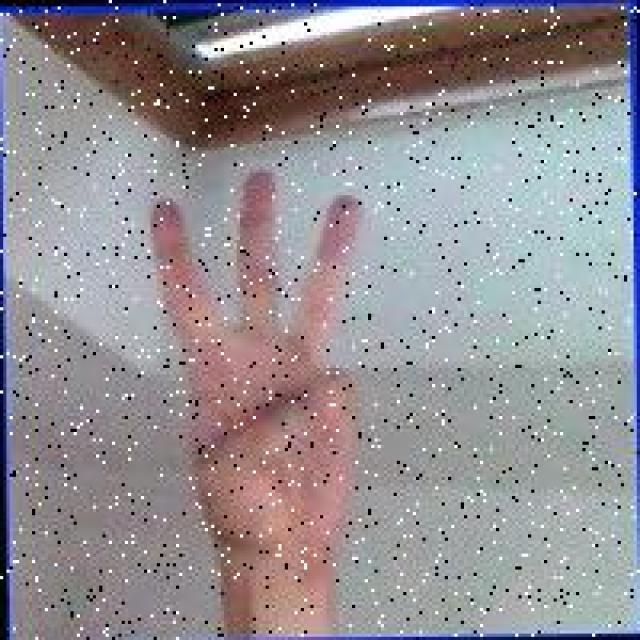W: (144, 166, 371, 570)
